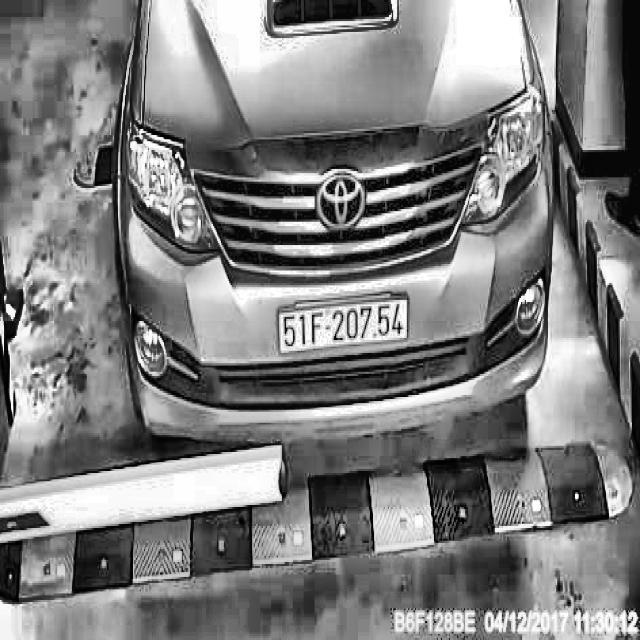plate: (276, 290, 412, 362)
